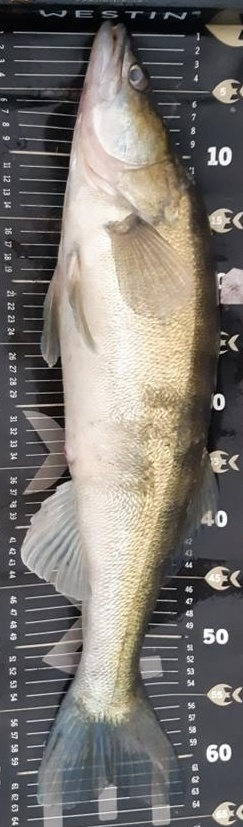Sander lucioperca: (20, 20, 223, 807)
